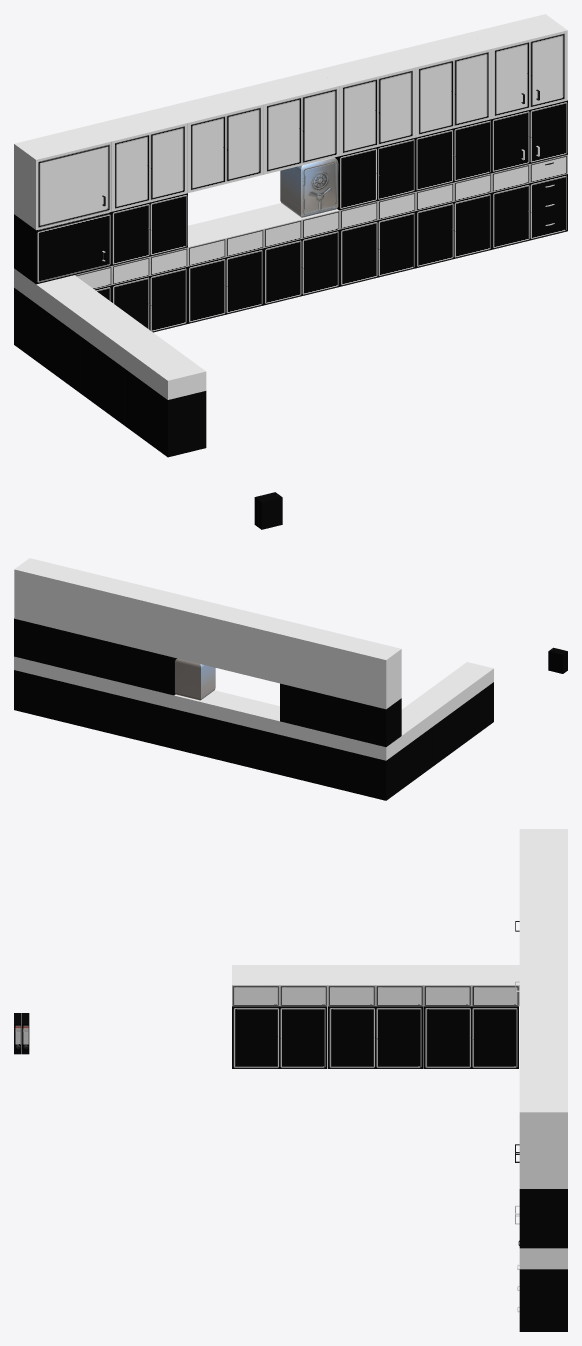
Rendered from Shelves.glb.
The picture shows the model from 3 angles, top to bottom: view 1: azimuth 30°, elevation 25°; view 2: azimuth 150°, elevation 25°; view 3: azimuth 270°, elevation 25°; orthographic projection. The views are drawn at different scales.
Parts seen in each view (by area): view 1: ShelvesUpperWhiteSingle.001, ShelvesUpperLeft.002, ShelvesUpperLeft.003, ShelvesUpperLeft.004, ShelvesUpperLeft.006, ShelvesUpperLeft, ShelvesUpperLeft.005, ShelvesMiddleBlackLeft, ShelvesLowerBlack.012, ShelvesLowerBlack.007, ShelvesLowerBlack.006, ShelvesLowerBlack.004 (+30 smaller); view 2: ShelvesUpperWhiteSingle.001, ShelvesUpperLeft, ShelvesUpperLeft.004, ShelvesUpperLeft.003, ShelvesUpperLeft.006, ShelvesUpperLeft.002, ShelvesUpperLeft.005, ShelvesLowerBlack.009, ShelvesMiddleBlackLeft, ShelvesLowerBlack.001, ShelvesLowerBlack.006, ShelvesLowerBlack.004 (+32 smaller); view 3: ShelvesLowerBlack.010, ShelvesLowerBlack.011, ShelvesLowerBlack.012, ShelvesUpperLeft, ShelvesLowerBlack.001, ShelvesMiddleBlackRight.001, ShelvesMiddleWhiteSingle.015, ShelvesMiddleWhiteSingle.016, ShelvesMiddleWhiteSingle.014, ShelvesMiddleWhiteSingle.017, ShelvesMiddleWhiteSingle.018, ShelvesMiddleWhiteSingle.019 (+8 smaller).
Part boxes in pixels (<box>): ShelvesUpperWhiteSingle.001: <box>14,125,111,230</box>; ShelvesUpperLeft.002: <box>394,32,491,137</box>; ShelvesUpperLeft.003: <box>318,51,415,155</box>; ShelvesUpperLeft.004: <box>242,69,339,174</box>; ShelvesUpperLeft.006: <box>90,107,187,211</box>; ShelvesUpperLeft: <box>470,14,567,118</box>; ShelvesUpperLeft.005: <box>166,88,263,192</box>; ShelvesMiddleBlackLeft: <box>14,212,111,284</box>; ShelvesLowerBlack.012: <box>124,368,206,457</box>; ShelvesLowerBlack.007: <box>187,248,263,323</box>; ShelvesLowerBlack.006: <box>264,229,339,305</box>; ShelvesLowerBlack.004: <box>416,192,491,268</box>; ShelvesUpperWhiteSingle.001: <box>333,636,401,709</box>; ShelvesUpperLeft: <box>14,558,82,631</box>; ShelvesUpperLeft.004: <box>173,597,241,670</box>; ShelvesUpperLeft.003: <box>120,584,188,657</box>; ShelvesUpperLeft.006: <box>280,623,347,696</box>; ShelvesUpperLeft.002: <box>67,571,135,644</box>; ShelvesUpperLeft.005: <box>227,610,294,683</box>; ShelvesLowerBlack.009: <box>333,748,401,800</box>; ShelvesMiddleBlackLeft: <box>333,696,401,746</box>; ShelvesLowerBlack.001: <box>14,670,67,722</box>; ShelvesLowerBlack.006: <box>173,709,226,761</box>; ShelvesLowerBlack.004: <box>67,683,120,735</box>; ShelvesLowerBlack.010: <box>423,1006,518,1068</box>; ShelvesLowerBlack.011: <box>328,1006,423,1068</box>; ShelvesLowerBlack.012: <box>232,1006,327,1068</box>; ShelvesUpperLeft: <box>519,1071,567,1188</box>; ShelvesLowerBlack.001: <box>519,1269,567,1331</box>; ShelvesMiddleBlackRight.001: <box>519,1189,567,1248</box>; ShelvesMiddleWhiteSingle.015: <box>423,965,471,1006</box>; ShelvesMiddleWhiteSingle.016: <box>375,965,423,1006</box>; ShelvesMiddleWhiteSingle.014: <box>471,965,519,1006</box>; ShelvesMiddleWhiteSingle.017: <box>328,965,375,1006</box>; ShelvesMiddleWhiteSingle.018: <box>280,965,327,1006</box>; ShelvesMiddleWhiteSingle.019: <box>232,965,279,1006</box>.
Bounding box in the file's own units: 7.3 × 2.61 × 5.96.
10 materials, 8 textured.
